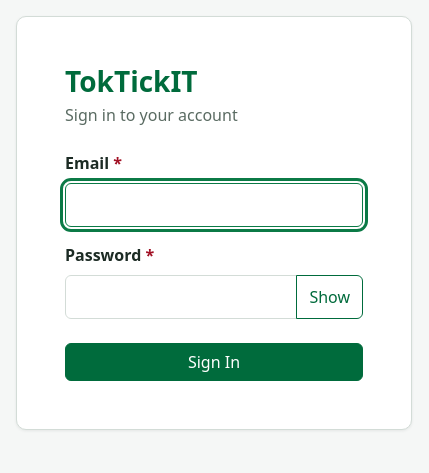
Test: UI-01 — Login validation and controls (AC-08, AC-61) › rejects a malformed email beside the field
Type "not-an-email" into the field labelled "Email *" at (214,205), box [65,183,363,227]
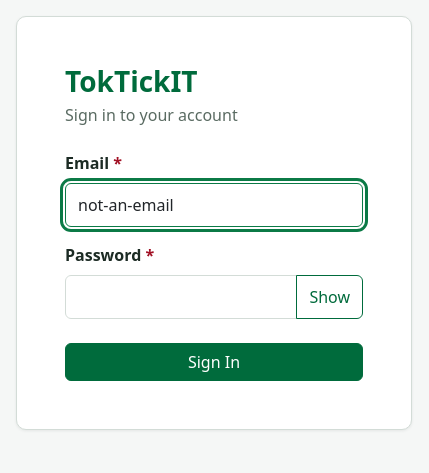
Type "Anything1!" into the password field labelled "Password *" at (181,297), box [65,275,297,319]
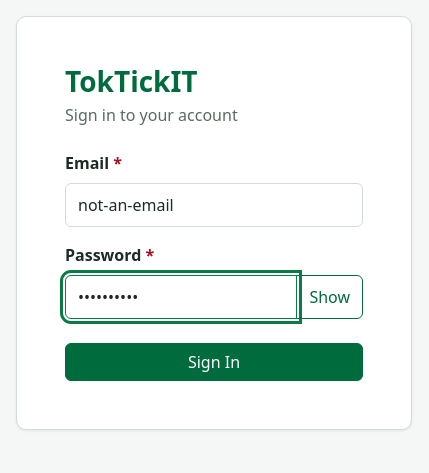
Click the button "Sign In" at (214,362), box [65,343,363,381]
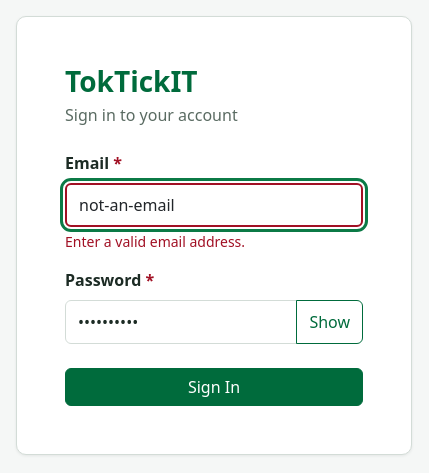
Expected: the text "Enter a valid email address." is shown, [65,232,245,251]
